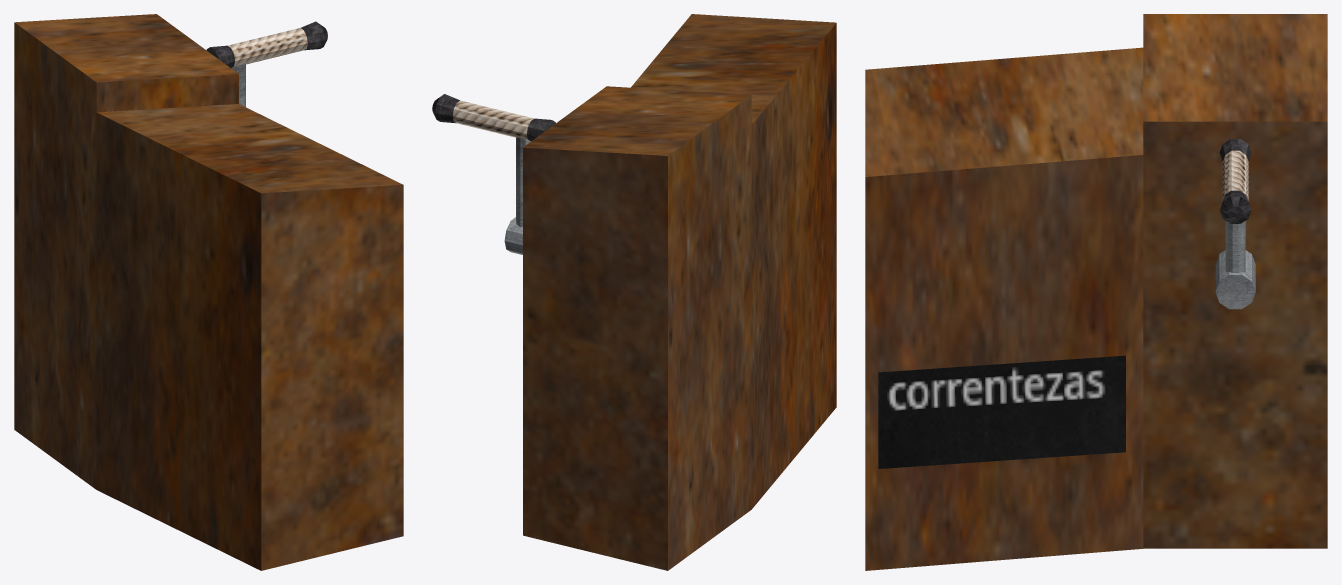
The model's file is leme.glb.
3 renders of one model, left to right at view 1: azimuth 30°, elevation 25°; view 2: azimuth 150°, elevation 25°; view 3: azimuth 270°, elevation 25°, orthographic. The views are drawn at different scales.
Visible parts, largest first — view 1: Cube, Cylinder; view 2: Cube, Cylinder; view 3: Cube, Cylinder.
Boxes of the visible parts, x1,y1,x2,y2 form: Cube: (14, 14, 403, 570); Cylinder: (206, 21, 327, 106); Cube: (523, 14, 836, 570); Cylinder: (432, 94, 555, 254); Cube: (865, 14, 1327, 570); Cylinder: (1215, 139, 1255, 309).
Size of the model in its own units: 3.82 by 5.52 by 5.07.
1 material, 1 textured.
